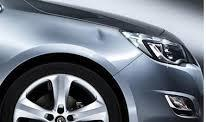dent: (77, 24, 128, 63)
